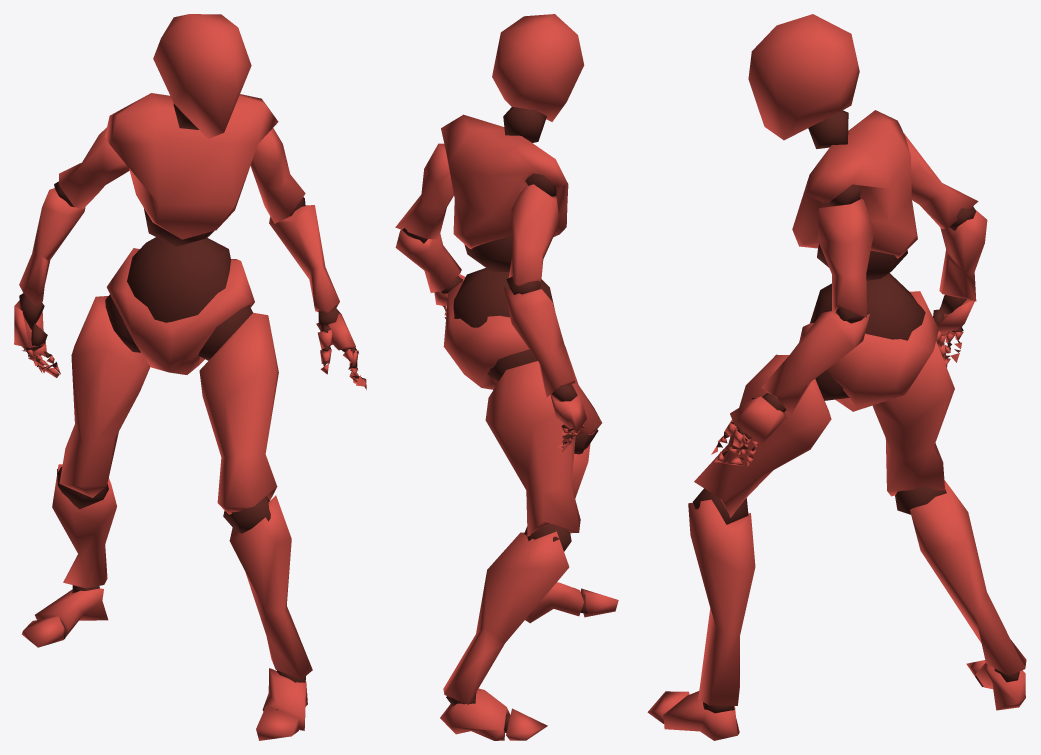
3 renders of one model, left to right at view 1: azimuth 30°, elevation 25°; view 2: azimuth 150°, elevation 25°; view 3: azimuth 270°, elevation 25°, orthographic. The views are drawn at different scales.
Parts seen in each view (by area): view 1: Beta_Surface; view 2: Beta_Surface; view 3: Beta_Surface.
Part boxes in pixels (left/top/right/bottom): Beta_Surface: left=14, top=14, right=366, bottom=740; Beta_Surface: left=395, top=14, right=618, bottom=740; Beta_Surface: left=647, top=14, right=1026, bottom=740.
Size of the model in its own units: 5.52 by 14.59 by 7.2.
